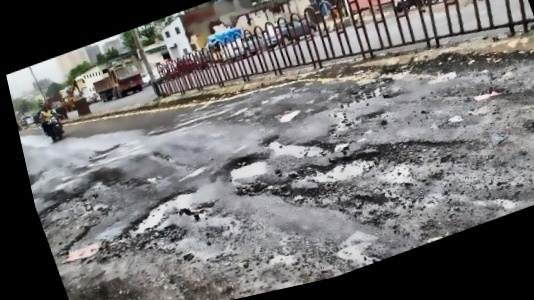pothole: (260, 112, 475, 226), (113, 184, 209, 242), (257, 117, 332, 174), (219, 147, 274, 189), (337, 81, 391, 111), (59, 236, 106, 265), (276, 104, 304, 126)
